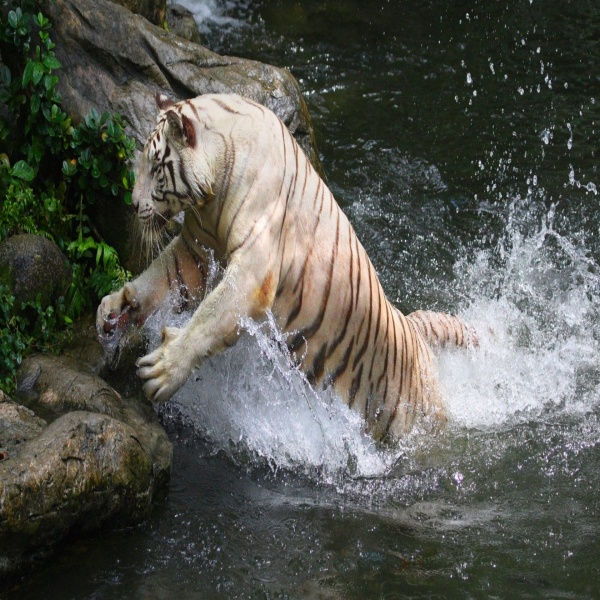Tiger: (94, 87, 484, 467)
